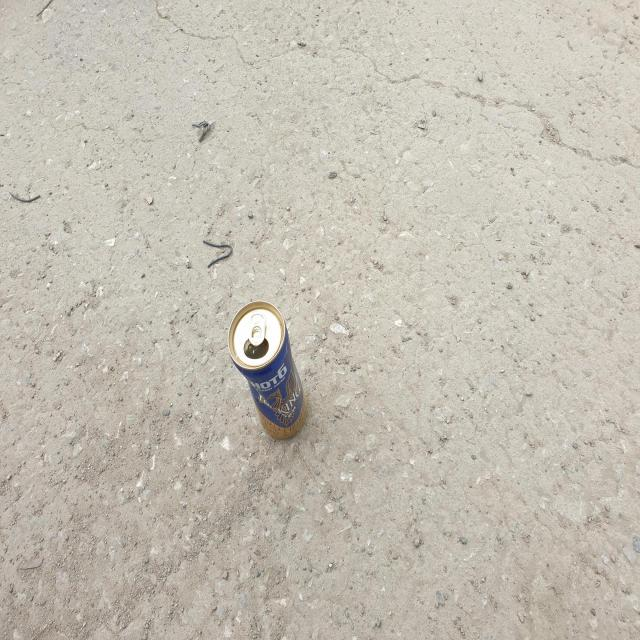can: (228, 301, 308, 439)
